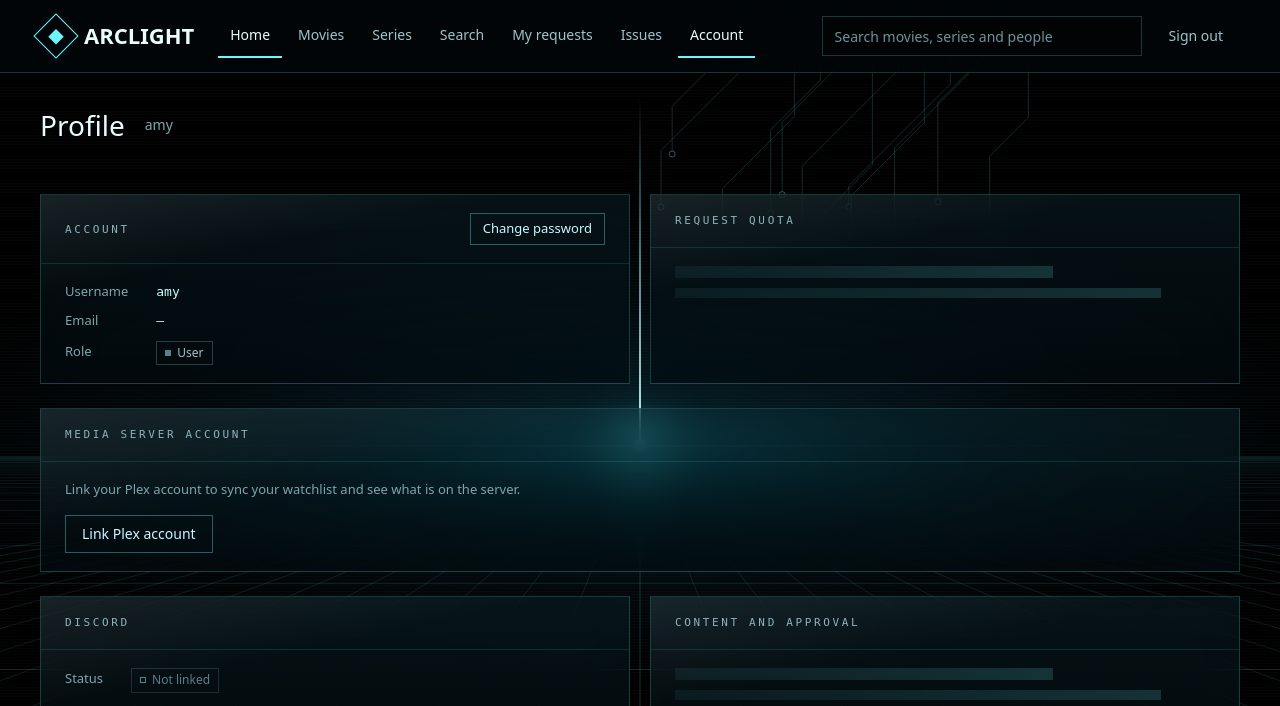
profile → Plex link via PIN › keeps waiting while Plex answers pending and stops on cancel
Click the button "Link Plex account" at (139, 534), box [65,515,213,553]
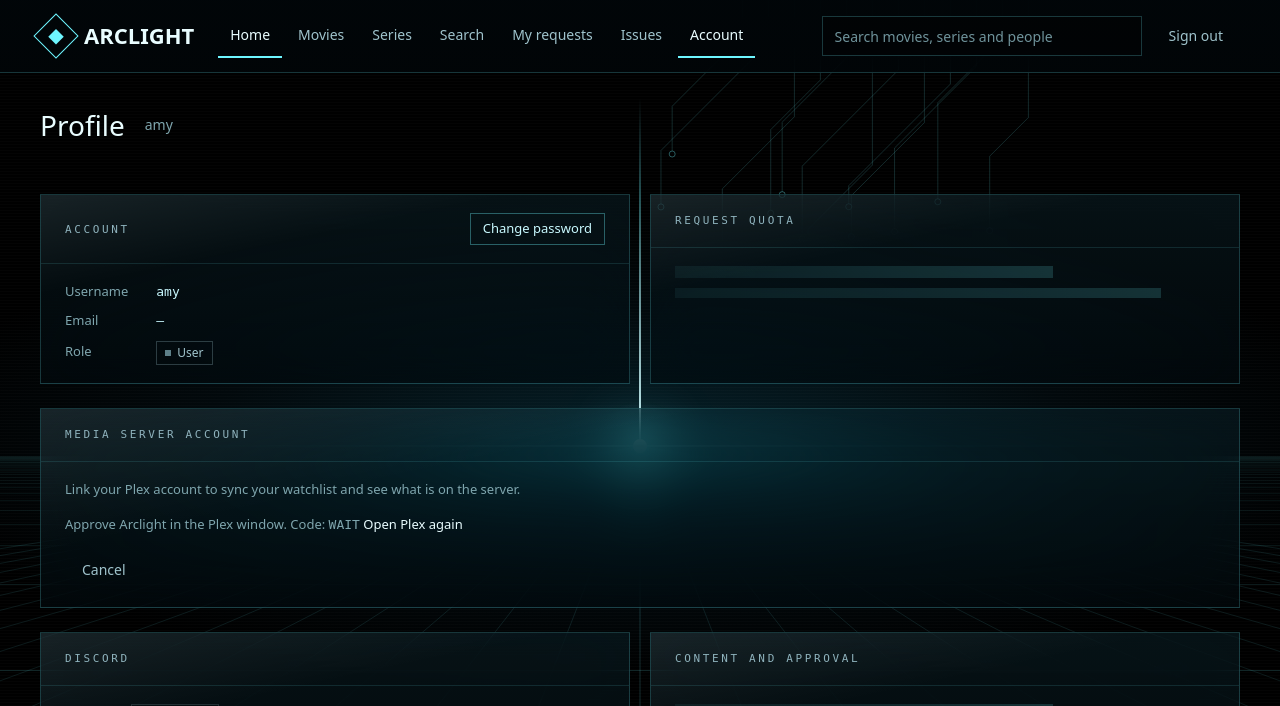
Check: the message shows "WAIT", box [329,517,360,532]
Click the button "Cancel" at (104, 570), box [65,551,143,589]
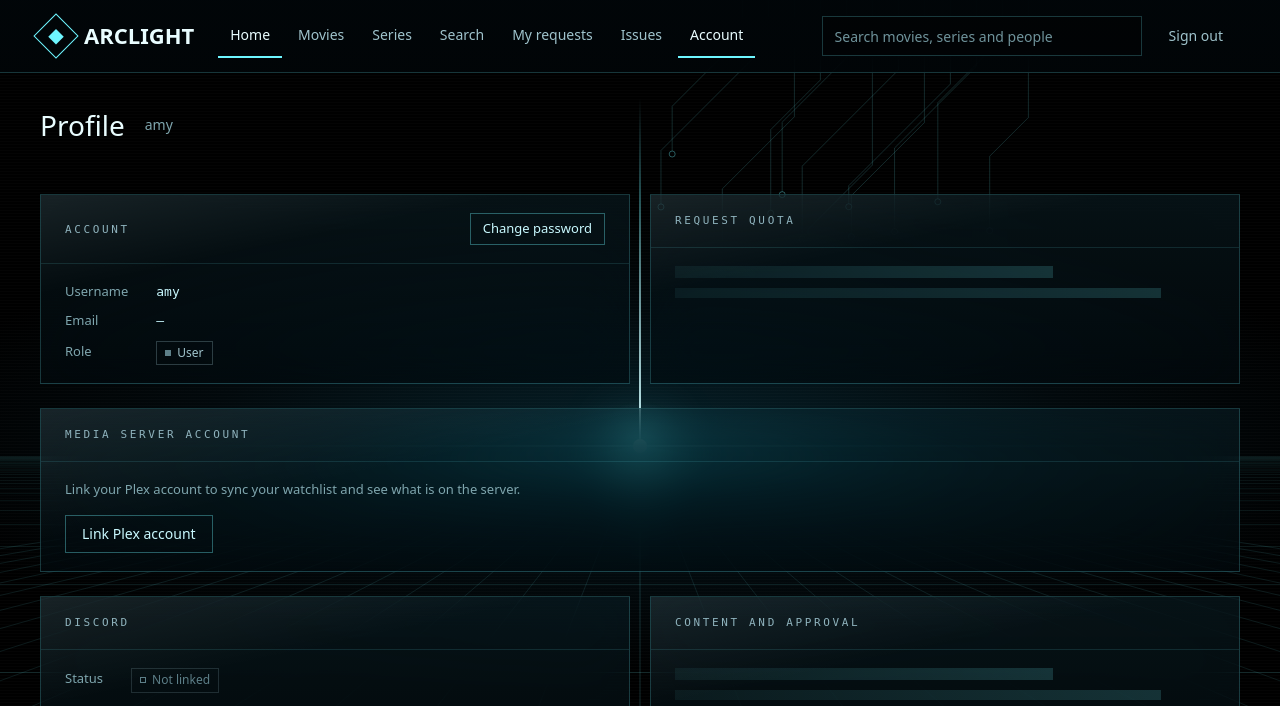
Check: the button "Link Plex account" is shown, box [65,515,213,553]
Check: the text "WAIT" is gone
